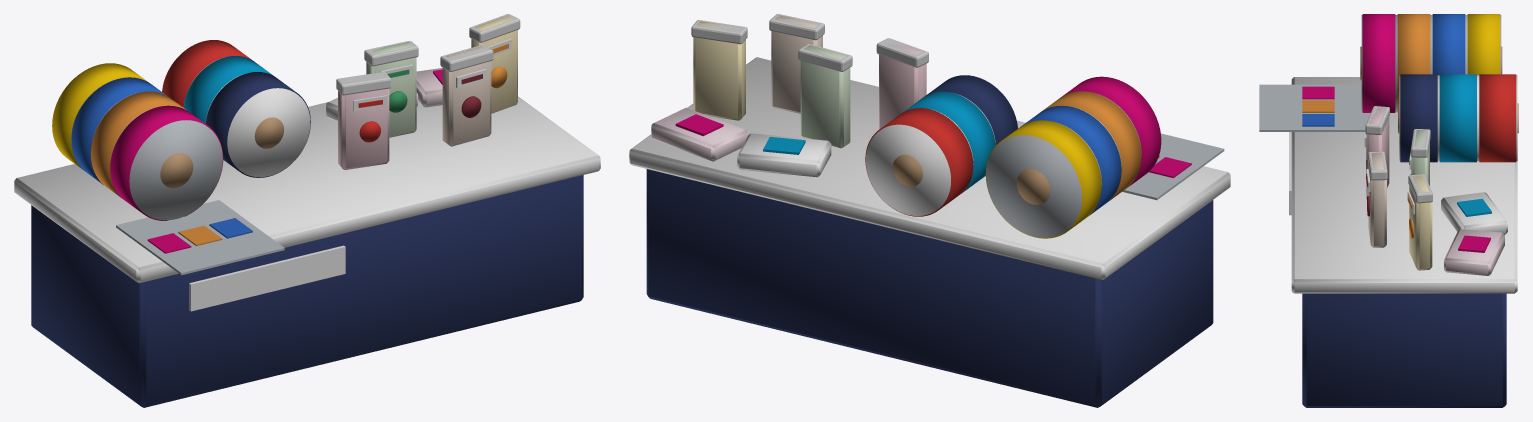
The model's file is m_flexpack.glb.
3 views of the same model, side by side, from view 1: azimuth 30°, elevation 25°; view 2: azimuth 150°, elevation 25°; view 3: azimuth 270°, elevation 25° (orthographic). The views are drawn at different scales.
Parts seen in each view (by area): view 1: m_flexpack; view 2: m_flexpack; view 3: m_flexpack.
Part boxes in pixels (bbox=[...]): m_flexpack: bbox=[14, 14, 600, 407]; m_flexpack: bbox=[629, 14, 1230, 407]; m_flexpack: bbox=[1259, 14, 1518, 407].
Size of the model in its own units: 0.9 by 0.462 by 0.482.
